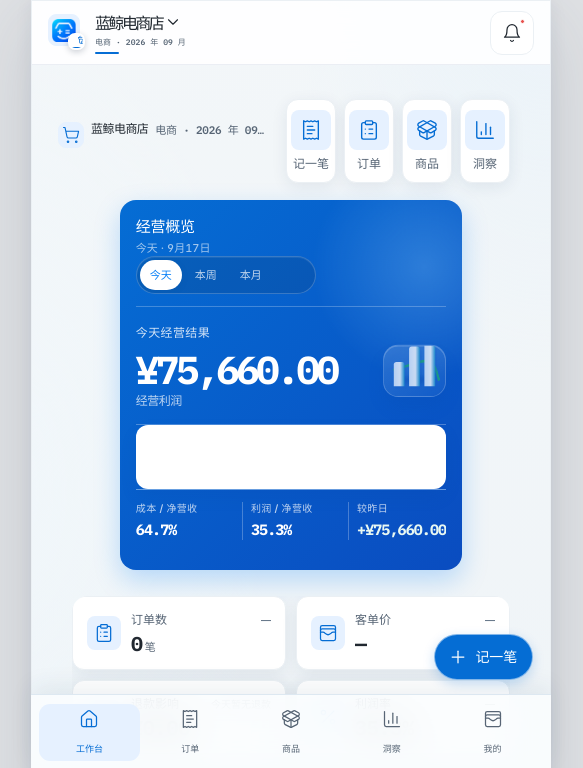
Test: batch-14 经营概览卡：数字滚动 + 环比升绿降红 + 字号 › 范围切换回归：今天/本周/本月 aria-pressed 正确，切换后主卡与环比标签同步
This screenshot has width=583, height=768.
Click the button "本月": (251, 275) [230, 260, 272, 290]
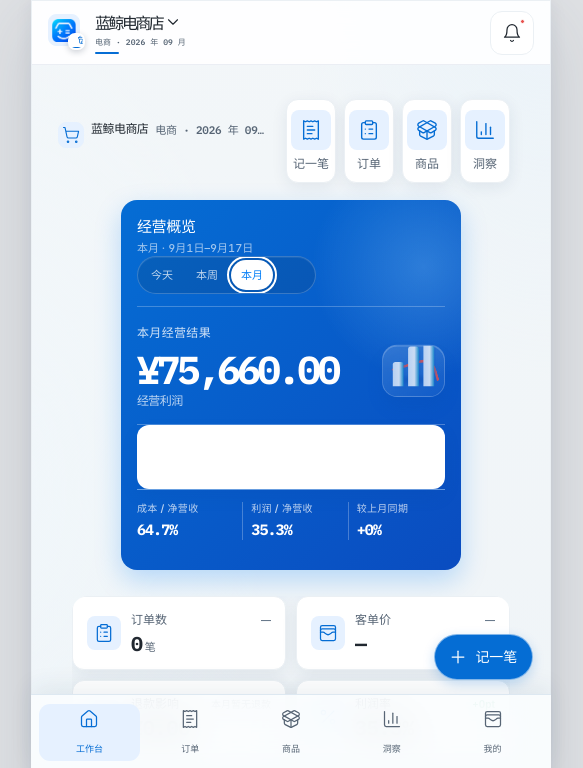
Expected: the text "较上月同期" is shown, [357, 502, 408, 514]
Click the button "本周": (207, 275) [186, 260, 228, 290]
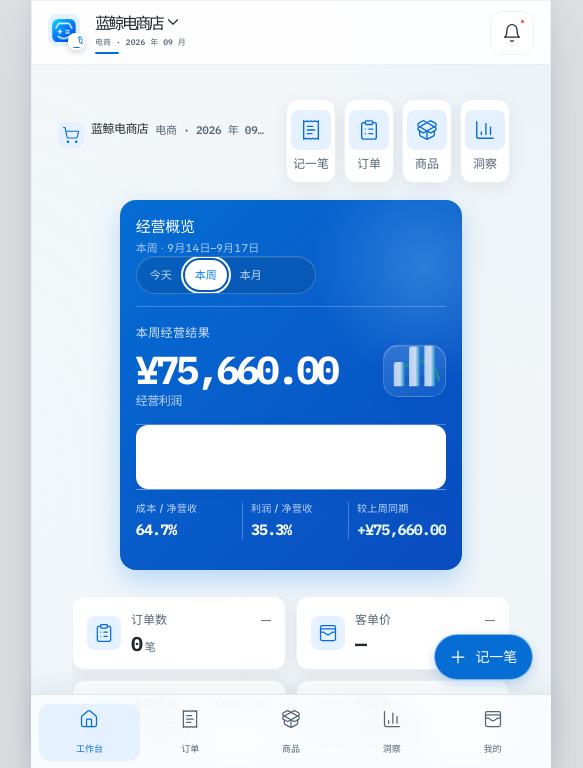
Expected: the text "较上周同期" is shown, [357, 502, 408, 514]
